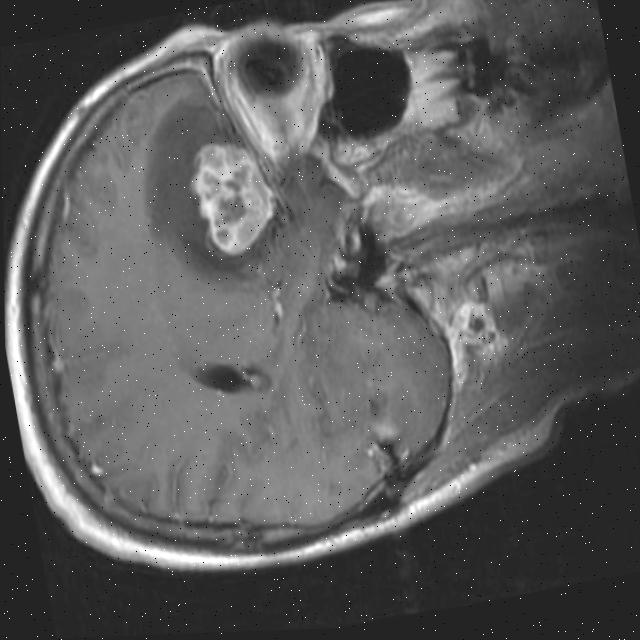Meningioma: (183, 130, 288, 265)
